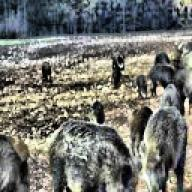boar: (46, 118, 140, 192), (0, 130, 33, 192)
